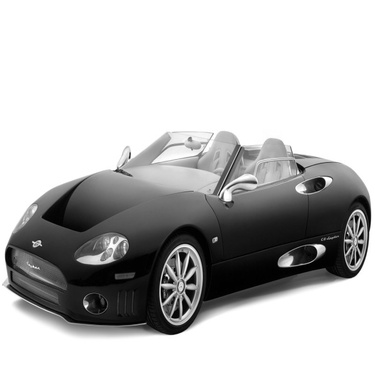car: (8, 125, 371, 324)
